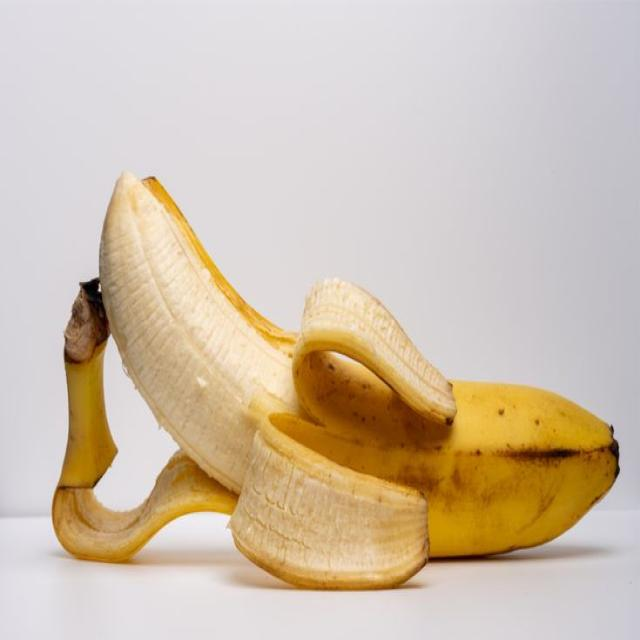banana: (101, 174, 618, 587), (101, 174, 617, 556), (53, 281, 428, 589), (53, 281, 236, 561), (230, 415, 428, 589)
